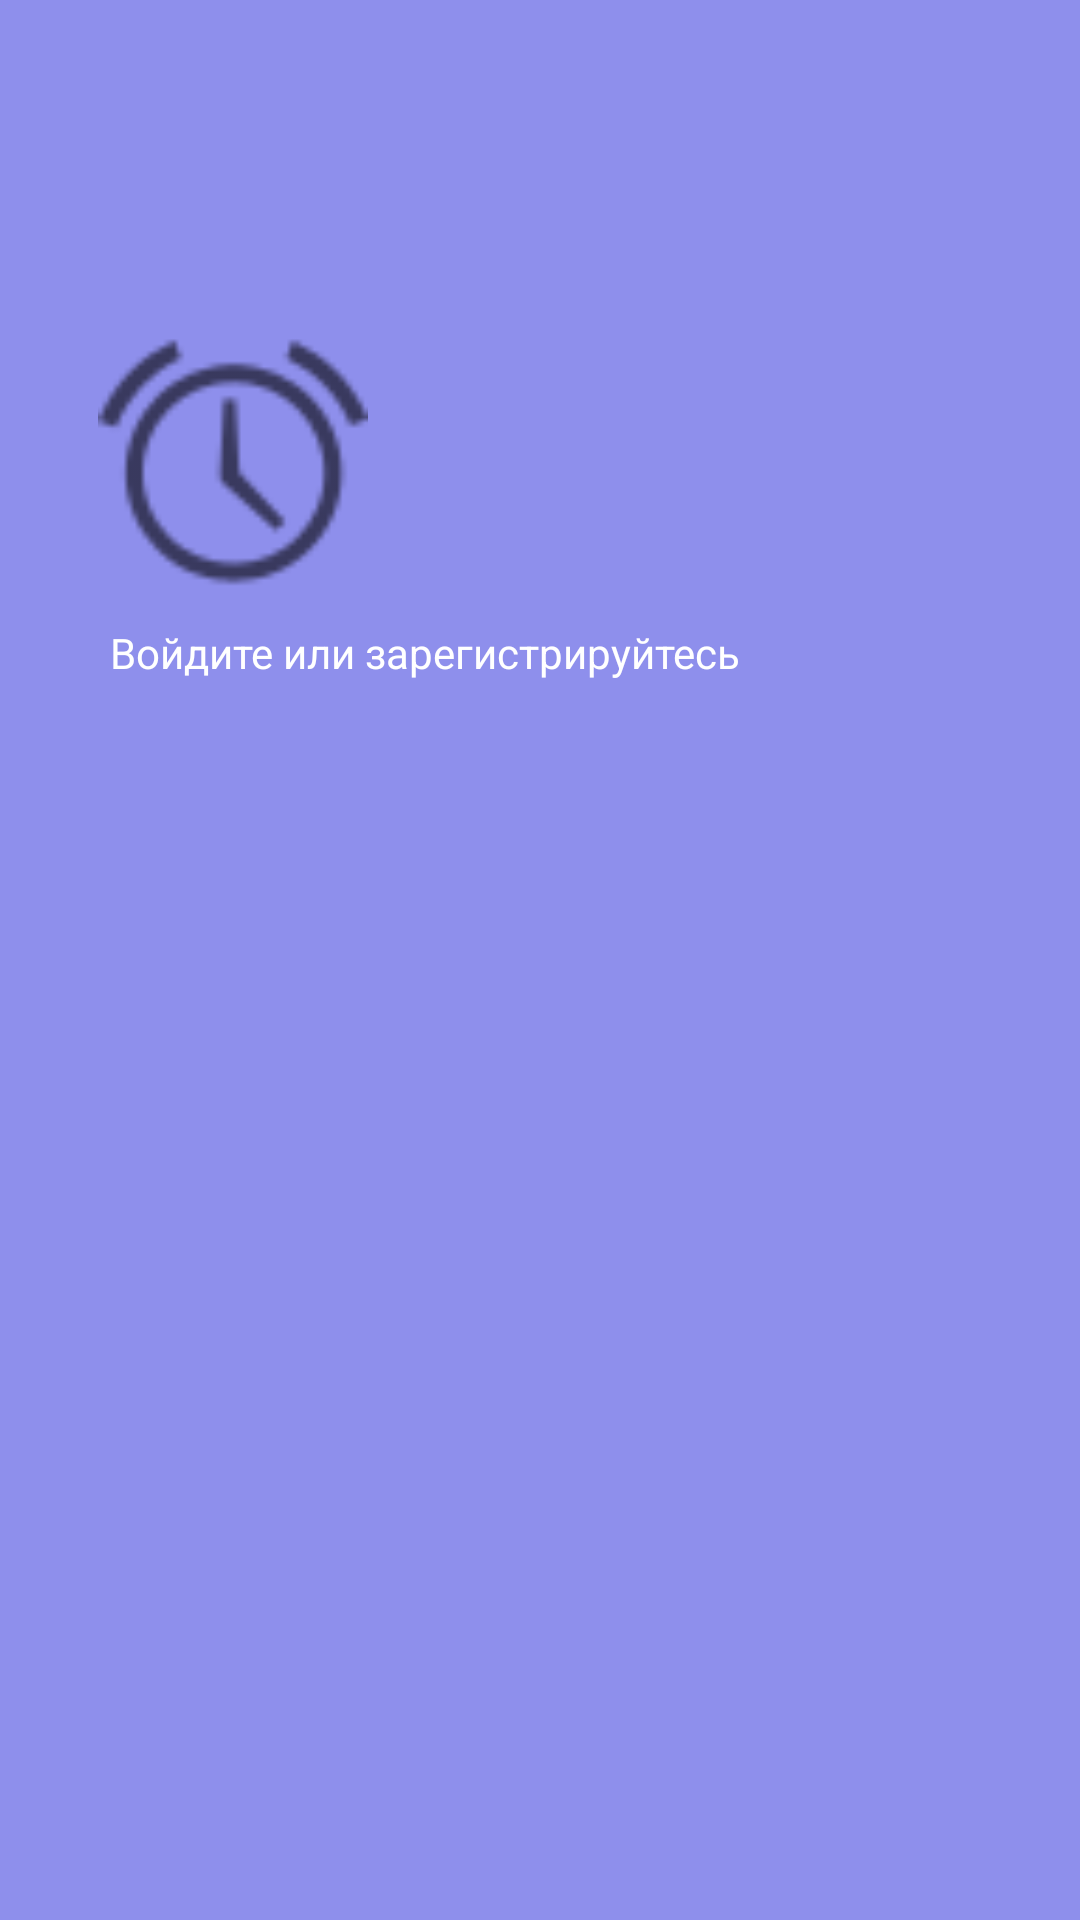

Locate icon controls on the screen. Image size 1080 x 1920, boxes as (x1, y1, x2, y2).
lock idle alarm: (98, 340, 368, 584)
